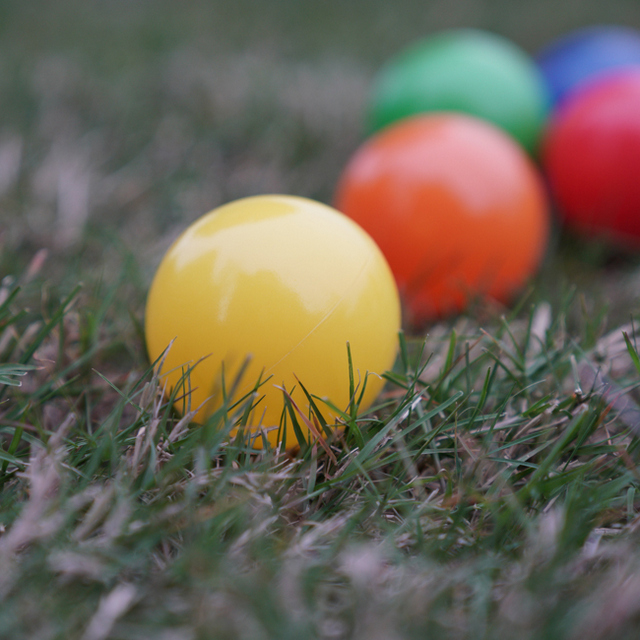Ball: (144, 192, 416, 429)
